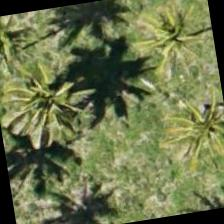Kelapa_Sawit: (0, 62, 101, 166), (124, 0, 220, 93), (154, 82, 223, 183)
